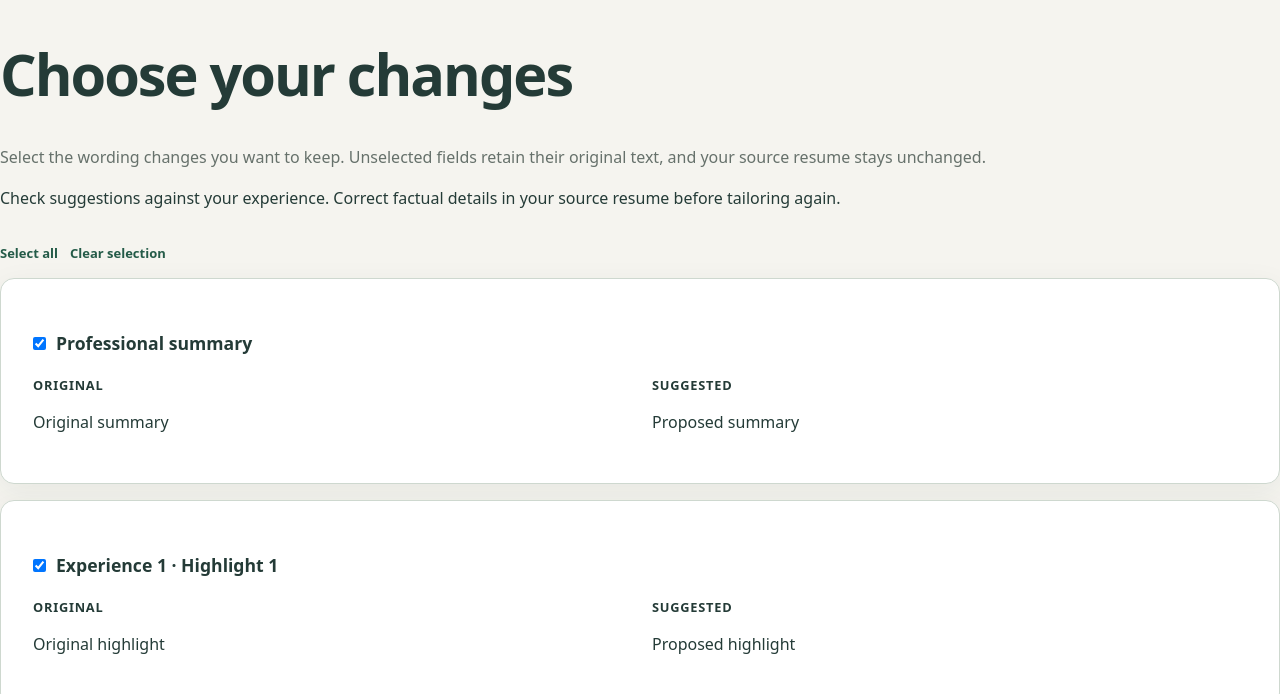
Test: allows zero selected changes and retains the selection when a stale save fails
Click the button "Clear selection" at (118, 245), box [70,228,166,262]
(page scrolled)
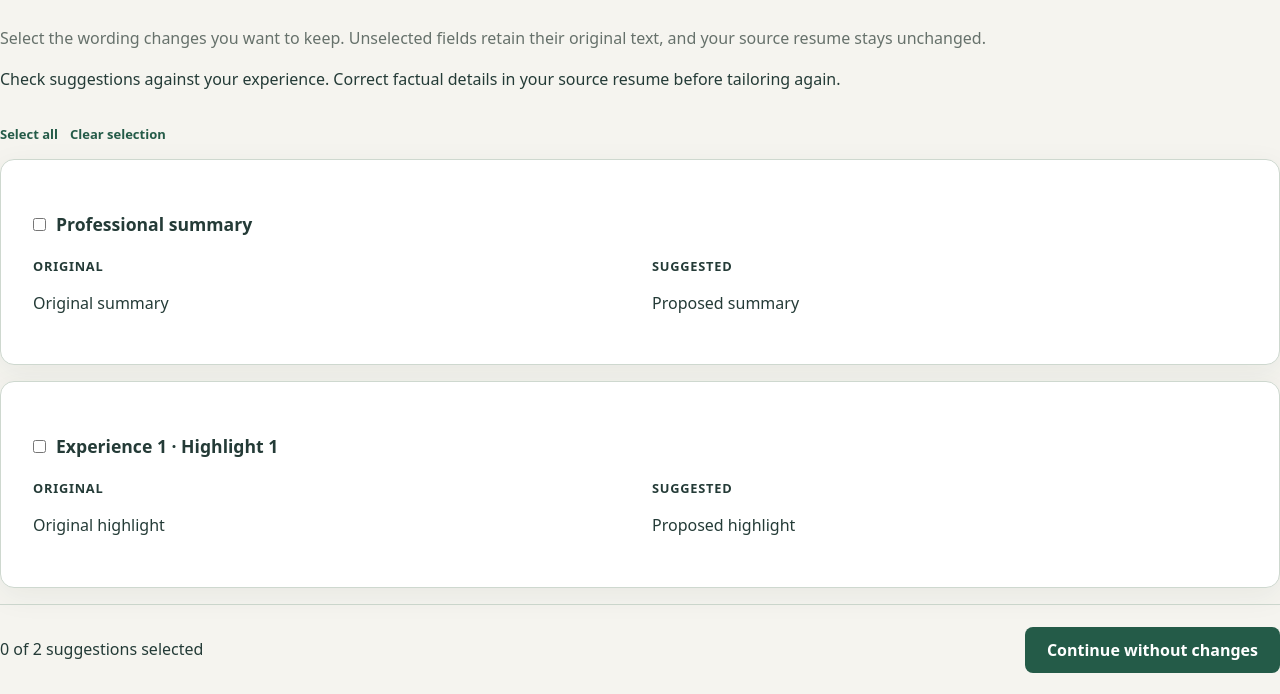
Click the button "Continue without changes" at (1152, 650), box [1025,627,1279,673]
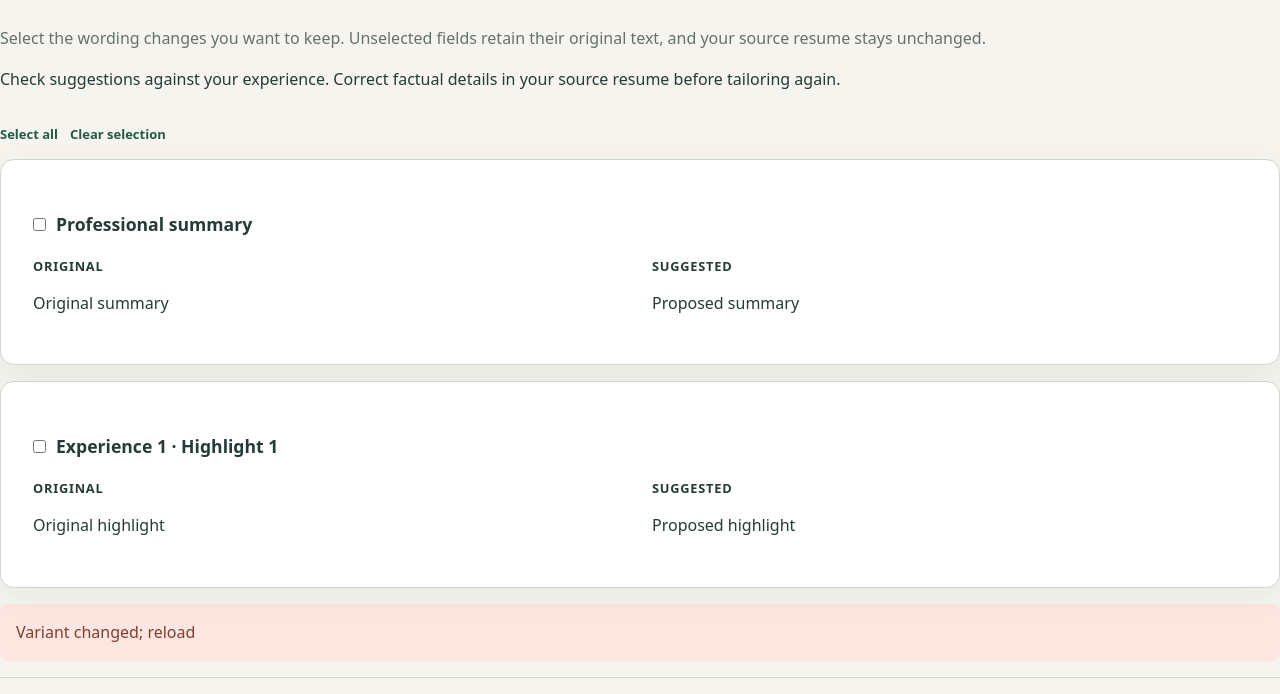
Result: the checkbox labelled "Professional summary" is not checked at [33,218,46,230]
Result: the message "Variant changed; reload" is shown at [0,604,1279,661]
